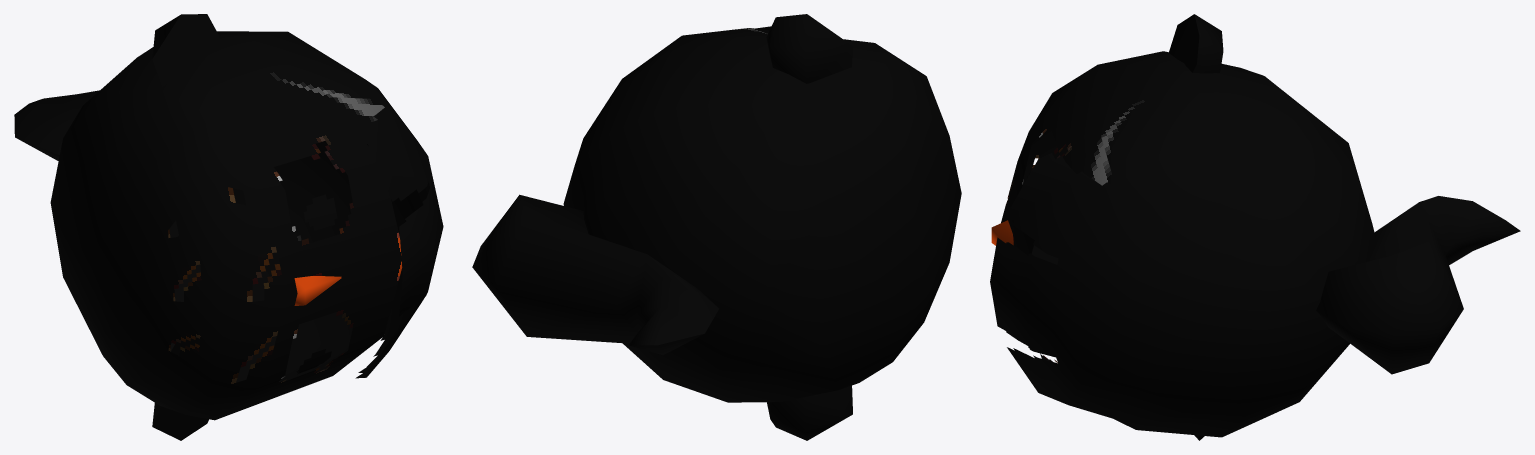
Rendered from girl04a.dae.
3 views of the same model, side by side, from view 1: azimuth 30°, elevation 25°; view 2: azimuth 150°, elevation 25°; view 3: azimuth 270°, elevation 25° (orthographic).
Parts seen in each view (by area): view 1: girl04a; view 2: girl04a; view 3: girl04a.
Boxes of the visible parts, x1=… form: girl04a: x1=14, y1=14, x2=443, y2=440; girl04a: x1=472, y1=14, x2=961, y2=440; girl04a: x1=990, y1=14, x2=1520, y2=440.
Bounding box in the file's own units: 21.34 × 26.71 × 30.49.
Materials: 3 (3 with a texture image).
